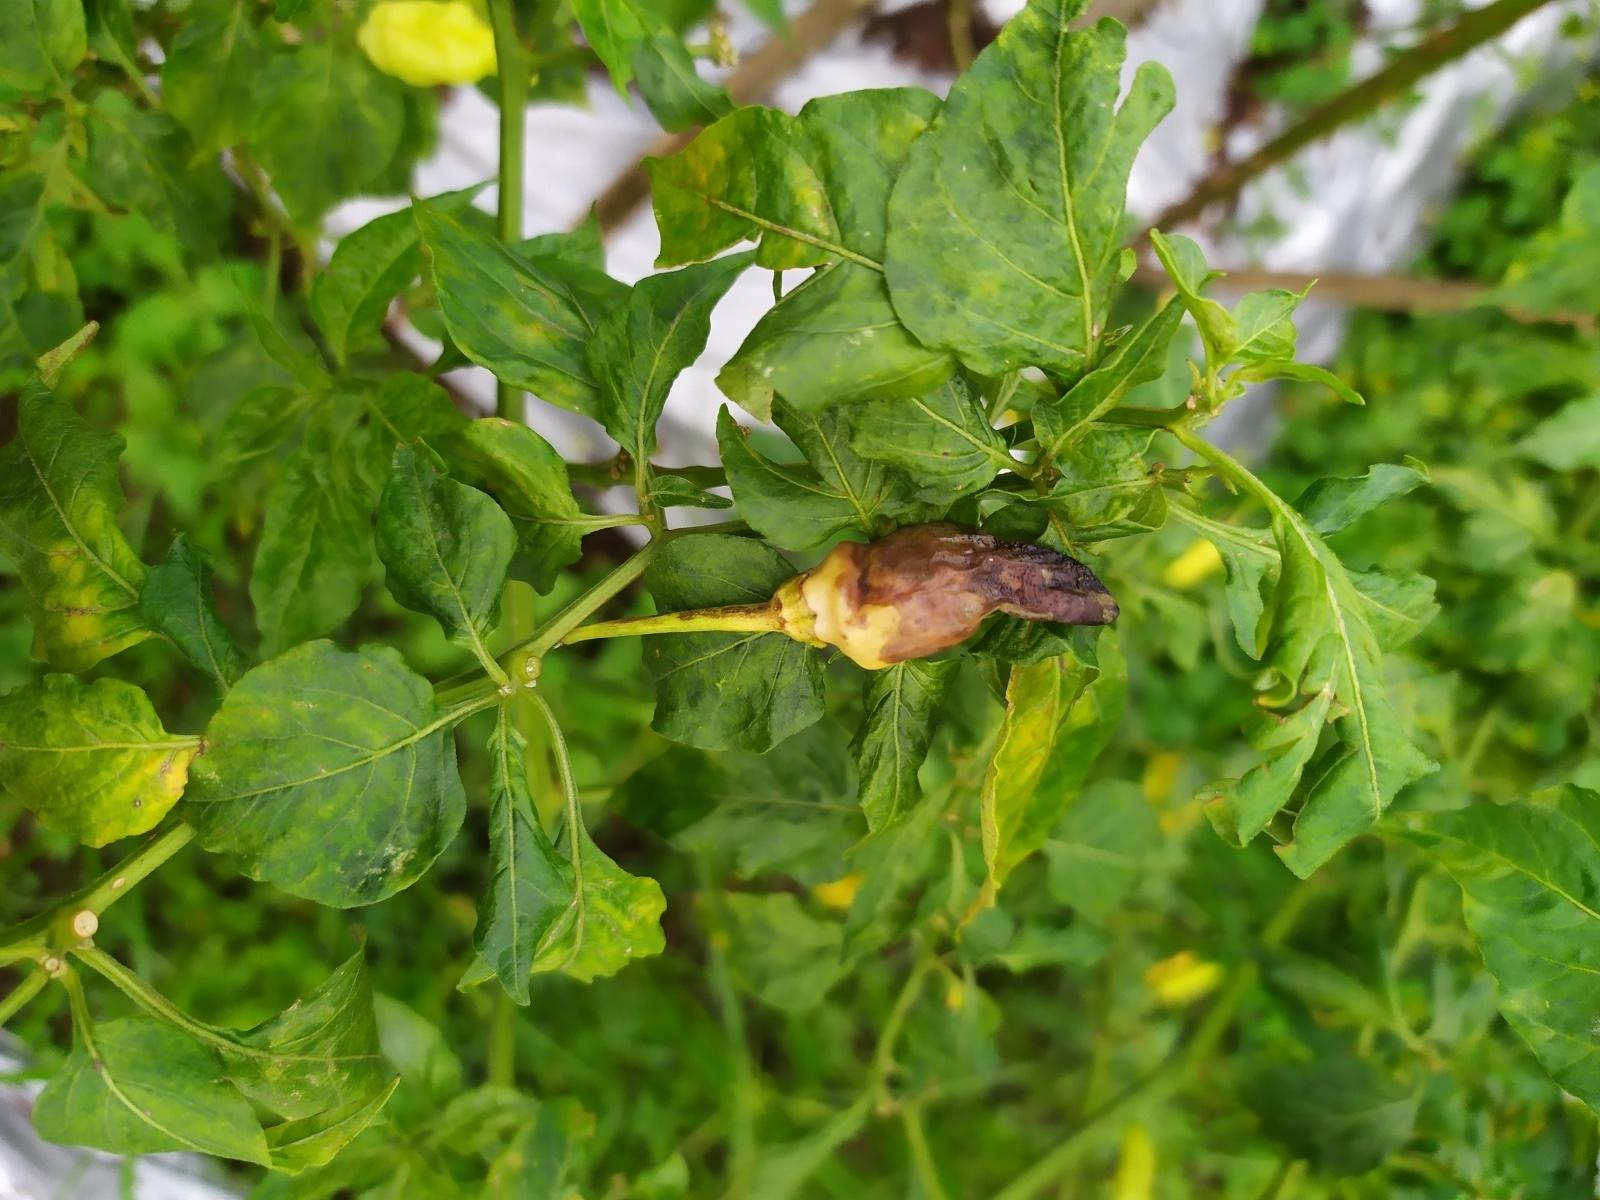antraknosa: (786, 522, 1121, 672)
cabai_normal: (360, 1, 501, 86)
